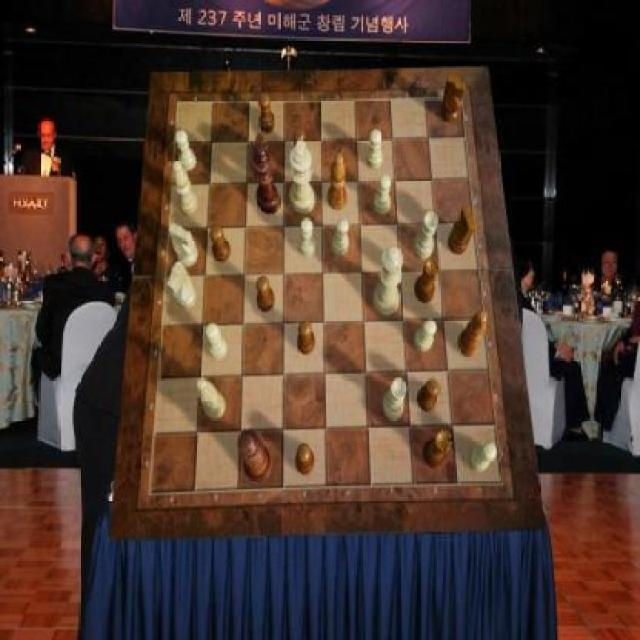bishop: (458, 311, 488, 358), (328, 152, 348, 210)
black-bishop: (251, 142, 281, 216)
black-king: (449, 207, 477, 256), (442, 74, 466, 123)
black-knight: (417, 378, 440, 412), (211, 225, 231, 262), (258, 94, 276, 134), (297, 320, 315, 356), (256, 276, 274, 312), (257, 131, 274, 169), (292, 128, 308, 168), (296, 445, 314, 477)
black-pawn: (237, 428, 272, 482)
black-queen: (422, 429, 452, 468), (414, 258, 438, 304)
black-rook: (174, 160, 198, 215), (196, 377, 226, 419)
white-bishop: (290, 140, 316, 215)
white-king: (168, 262, 198, 309), (170, 223, 198, 267)
white-knight: (175, 131, 198, 171), (206, 323, 229, 361), (469, 442, 497, 472), (414, 318, 437, 352), (374, 174, 391, 214), (299, 218, 316, 257), (332, 220, 350, 256), (368, 131, 384, 169)
white-pawn: (374, 247, 404, 316)
white-queen: (414, 212, 438, 260), (383, 377, 408, 419)
